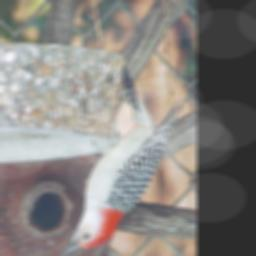Woodpecker: (55, 60, 195, 256)
